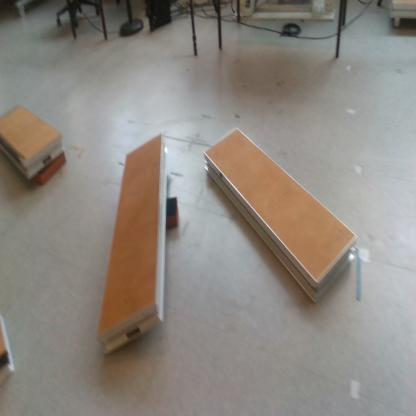Stairs: (206, 127, 357, 307), (98, 135, 169, 356), (1, 105, 65, 182), (1, 316, 17, 386)
